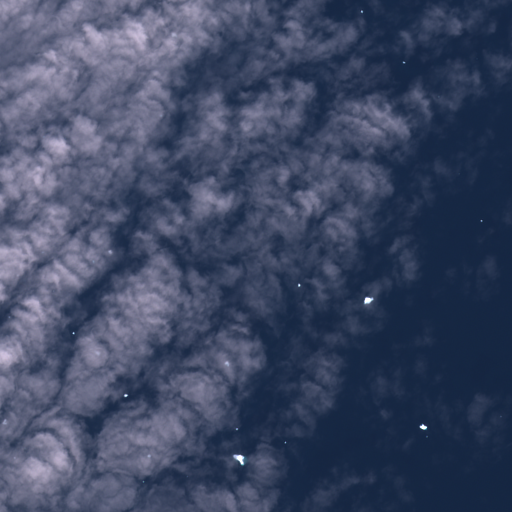Iceberg: (233, 454, 244, 465), (364, 297, 373, 303), (419, 423, 427, 429), (225, 361, 229, 366), (3, 419, 6, 423), (108, 250, 111, 253), (124, 394, 128, 396), (402, 61, 405, 63), (298, 283, 300, 286), (235, 428, 238, 430), (147, 455, 150, 457), (72, 332, 74, 334), (284, 441, 286, 443), (361, 10, 362, 12), (480, 220, 482, 221), (426, 436, 427, 437), (143, 481, 144, 482)
